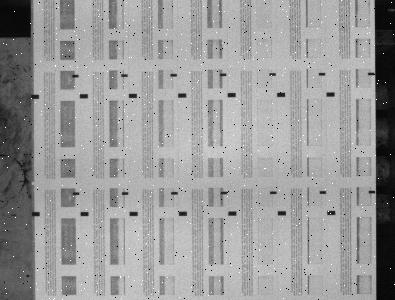backgroundclutter: (26, 274, 30, 277), (32, 182, 35, 185)
qblock: (179, 211, 188, 216), (327, 210, 336, 215), (277, 92, 286, 97), (327, 92, 336, 97), (129, 93, 138, 98), (32, 211, 40, 216), (130, 211, 138, 216), (229, 211, 237, 216), (31, 94, 39, 99), (278, 211, 287, 215), (178, 93, 187, 97), (81, 212, 89, 216), (228, 93, 236, 97), (80, 94, 88, 98)
smallqblock: (171, 191, 178, 195), (171, 73, 178, 77), (369, 190, 376, 193), (221, 191, 228, 194), (73, 192, 80, 195), (320, 191, 327, 194), (122, 192, 129, 195), (270, 191, 277, 194), (72, 74, 79, 77), (220, 73, 227, 76), (121, 74, 128, 77), (319, 73, 326, 76), (369, 72, 375, 75), (270, 73, 276, 76)
